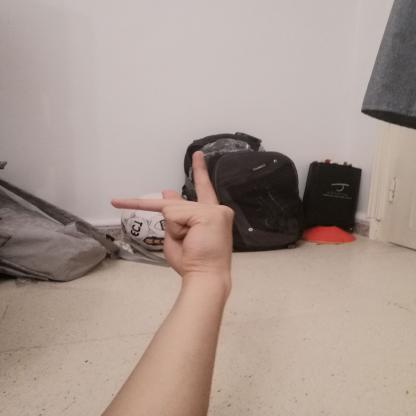DHAA: (98, 140, 249, 288)
